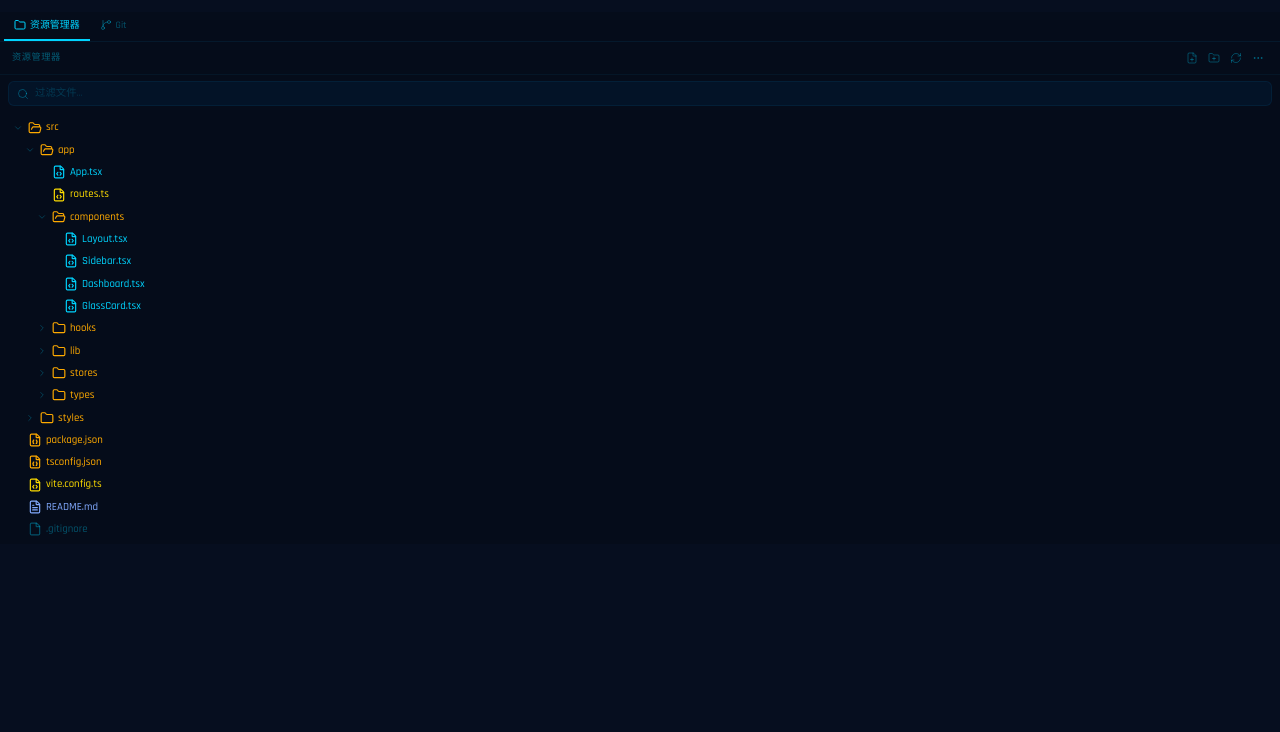
Test: FileExplorer › 文件夹开合: components 关闭隐藏子文件再打开恢复
Note: 点击 components 文件夹关闭
Click the button "components". click: coordinates (97, 217)
box: [4, 206, 1276, 228]
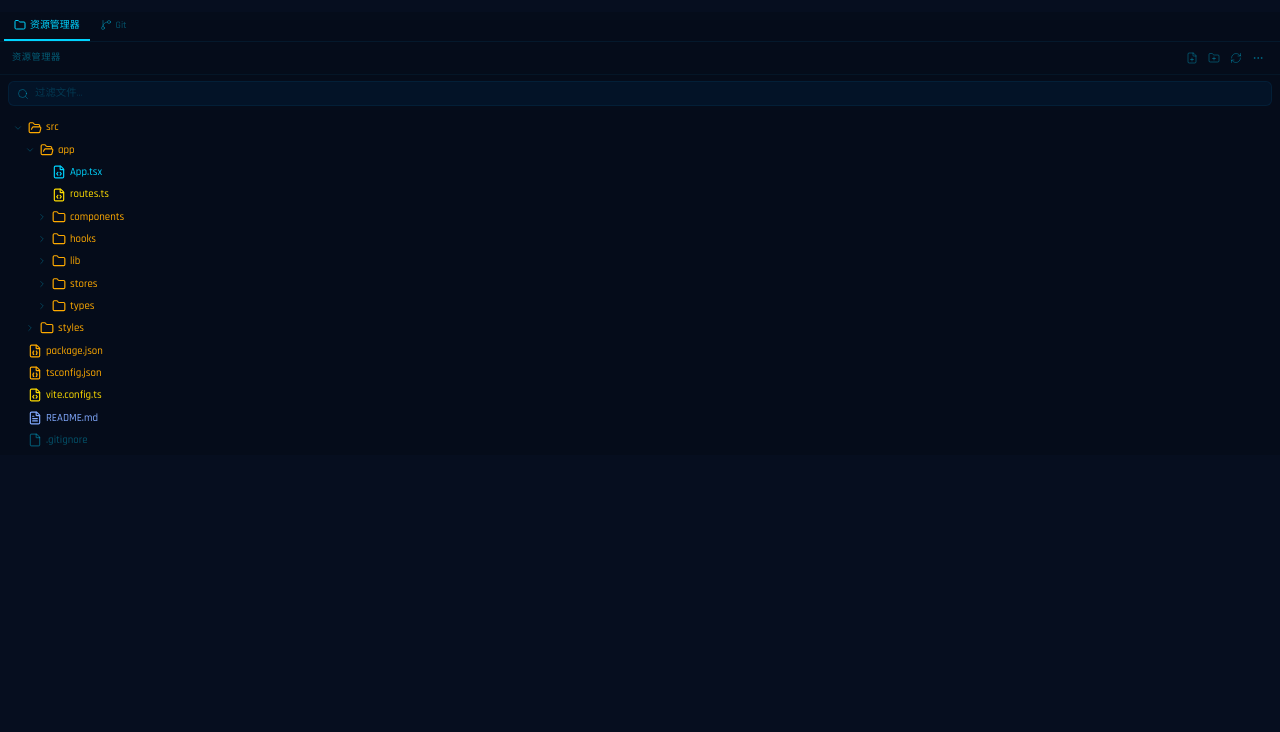
Check: the text "GlassCard.tsx" is gone
Click the button "components". click: coordinates (97, 217)
box: [4, 206, 1276, 228]
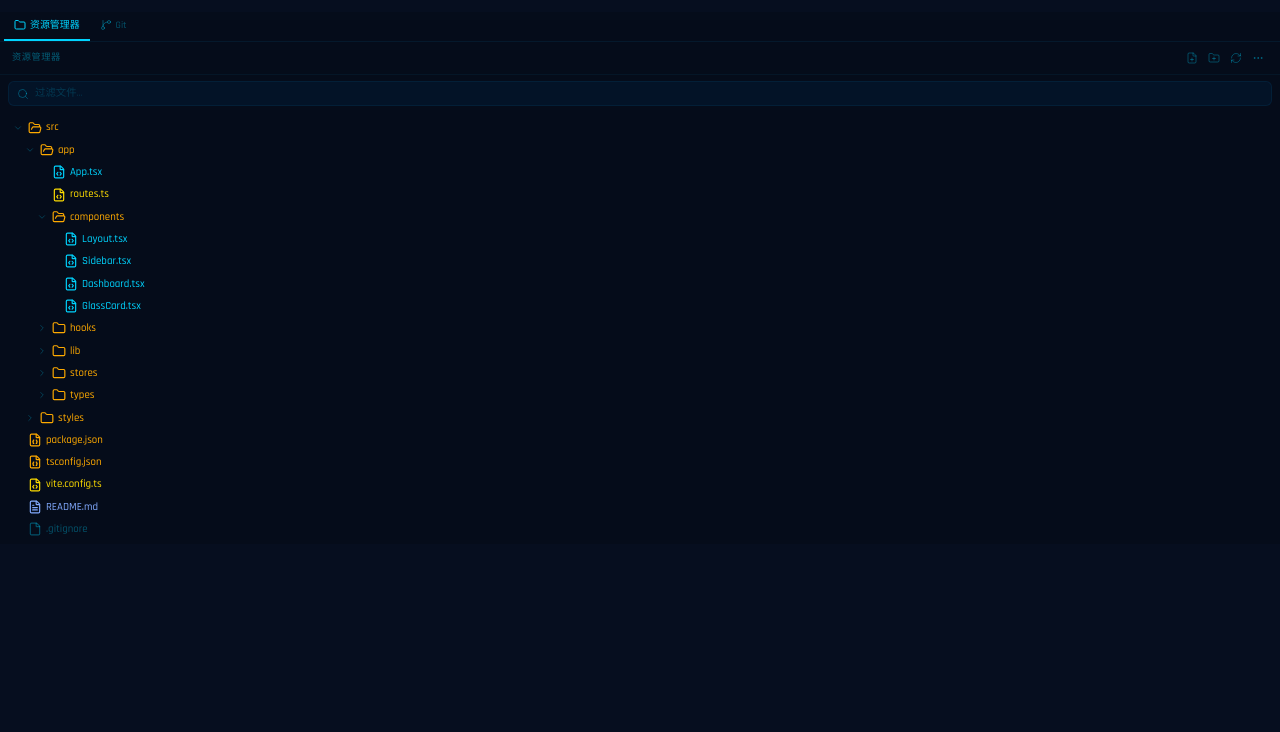
Check: the text "GlassCard.tsx" is shown, box [82, 299, 141, 313]
